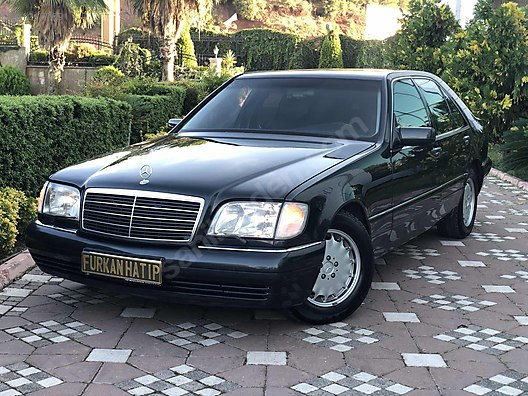mercedes: (20, 63, 495, 326)
